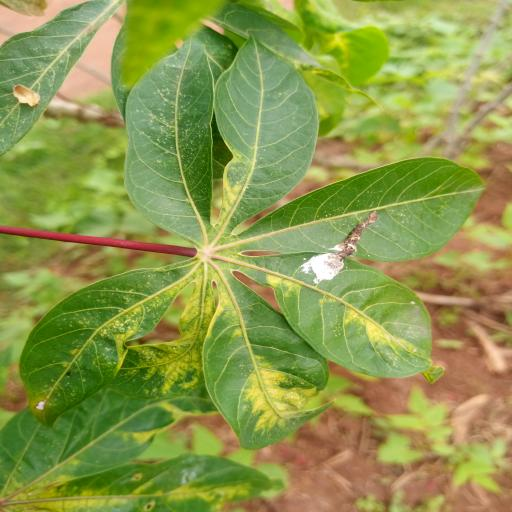Cassava_Mosaic: (17, 14, 487, 450)
